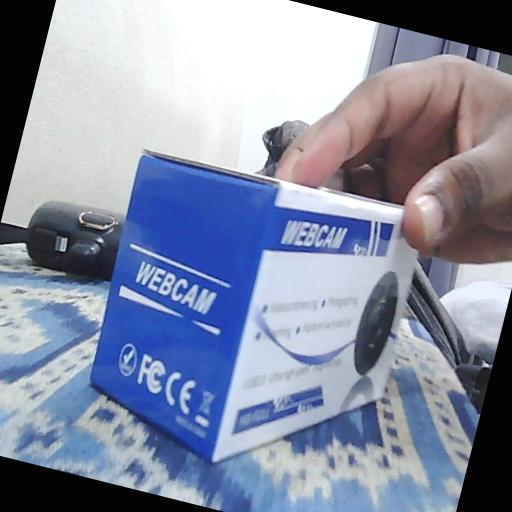webcam_box: (71, 141, 430, 500)
